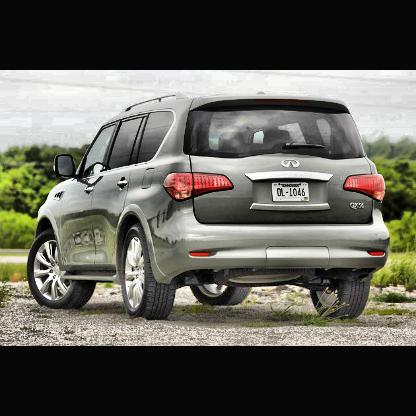Infiniti QX56 SUV 2011: (28, 94, 391, 319)
